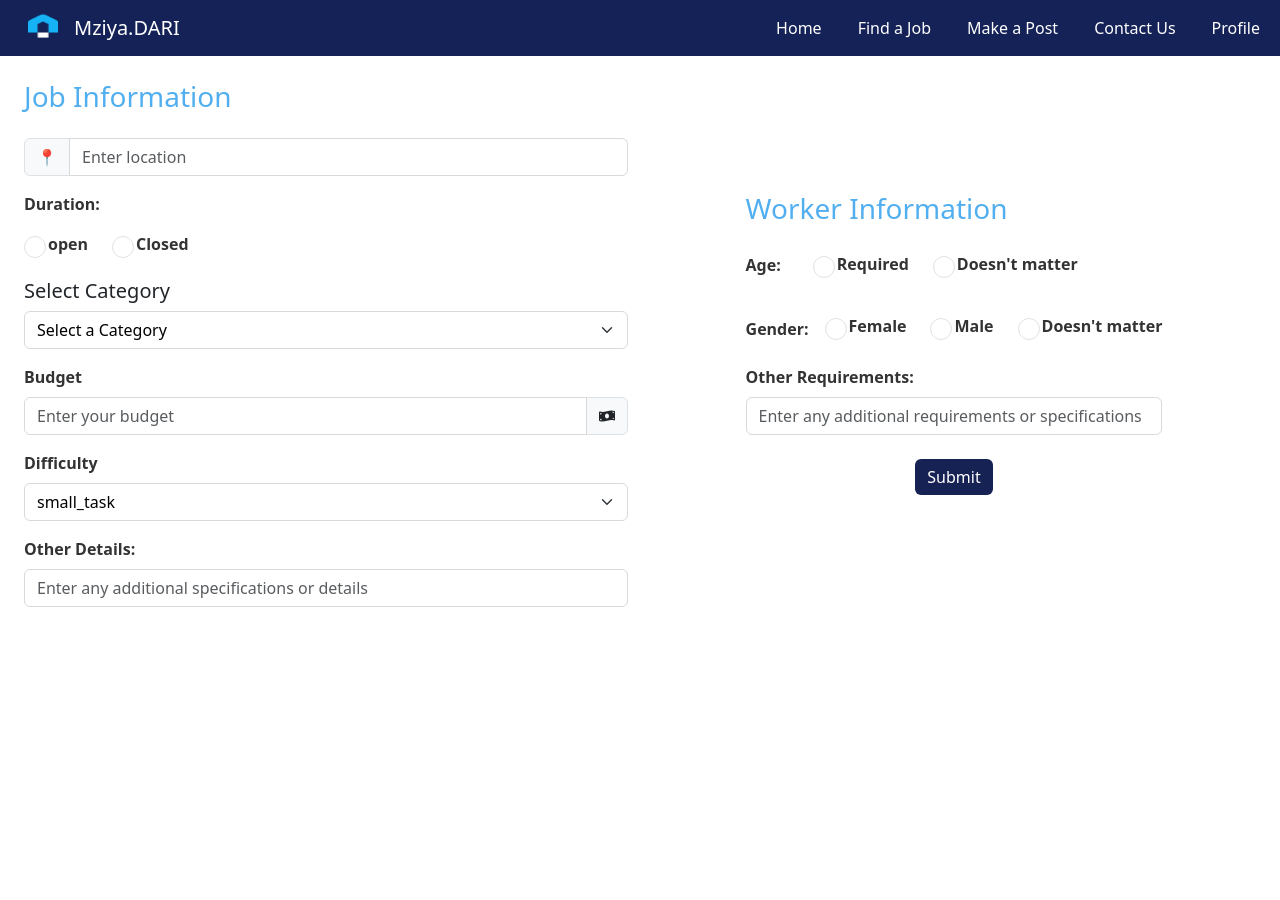
Test: PostingPage UI rendering tests › renders startDate and endDate when "closed" radio button is selected
Simulate selecting the "Open" radio button
What coordinates should you click on to do the following:
click the radio button with test id "closedRadio"
I would click on:
 (123, 247)
Its box is [112,236,134,258].
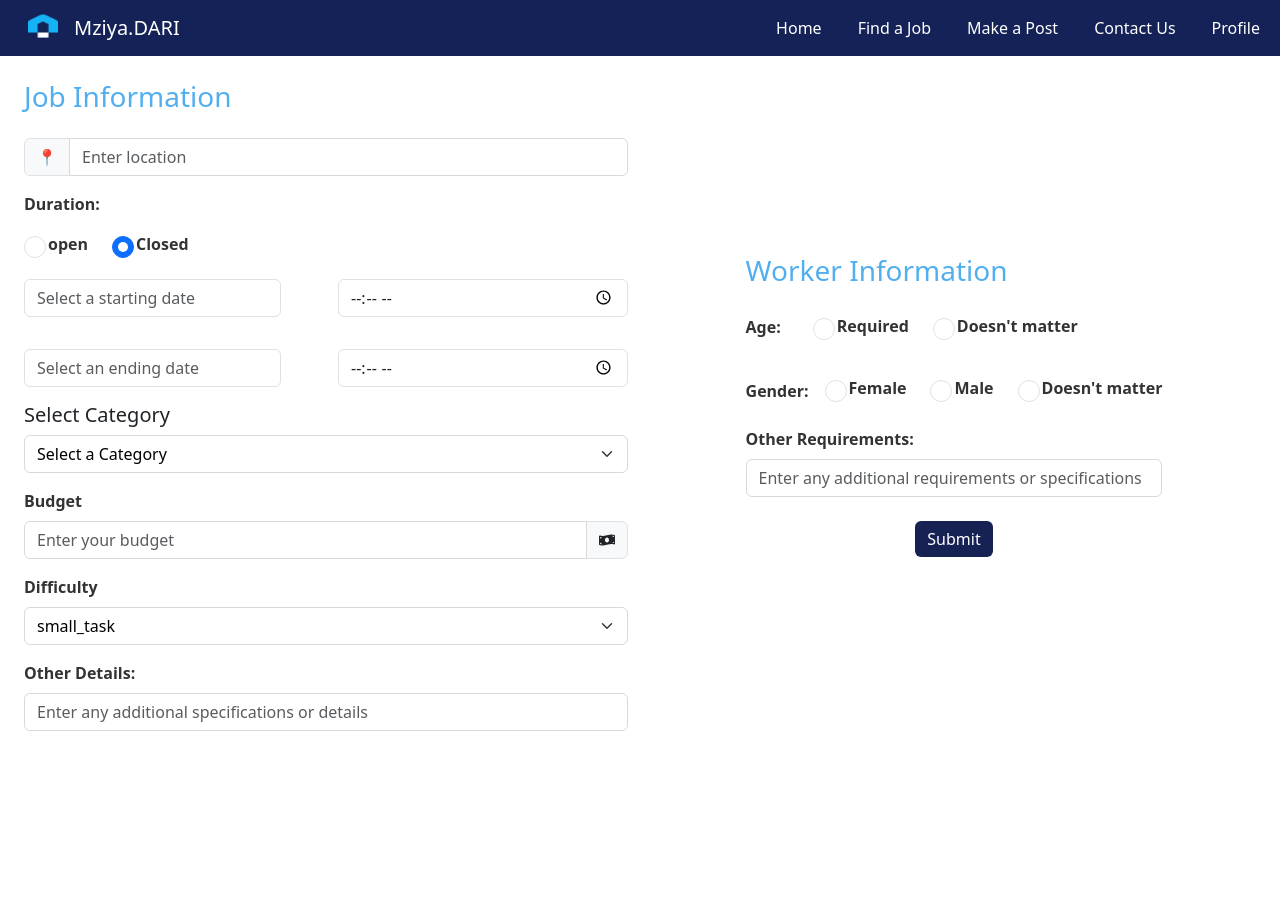
Check: the element with test id "startDate" is shown, box [24,279,281,317]
Check: the time field with test id "EndTime" is shown, box [338,349,628,387]
Check: the element with test id "EndDate" is shown, box [24,349,281,387]
